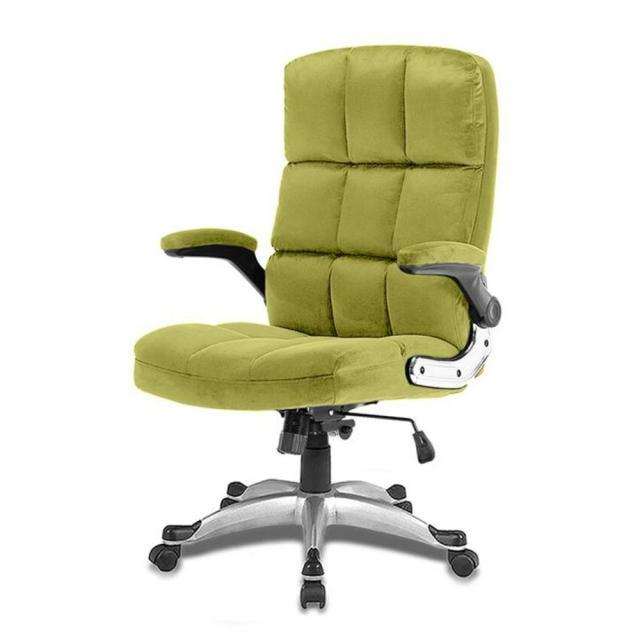chair: (132, 44, 502, 611)
